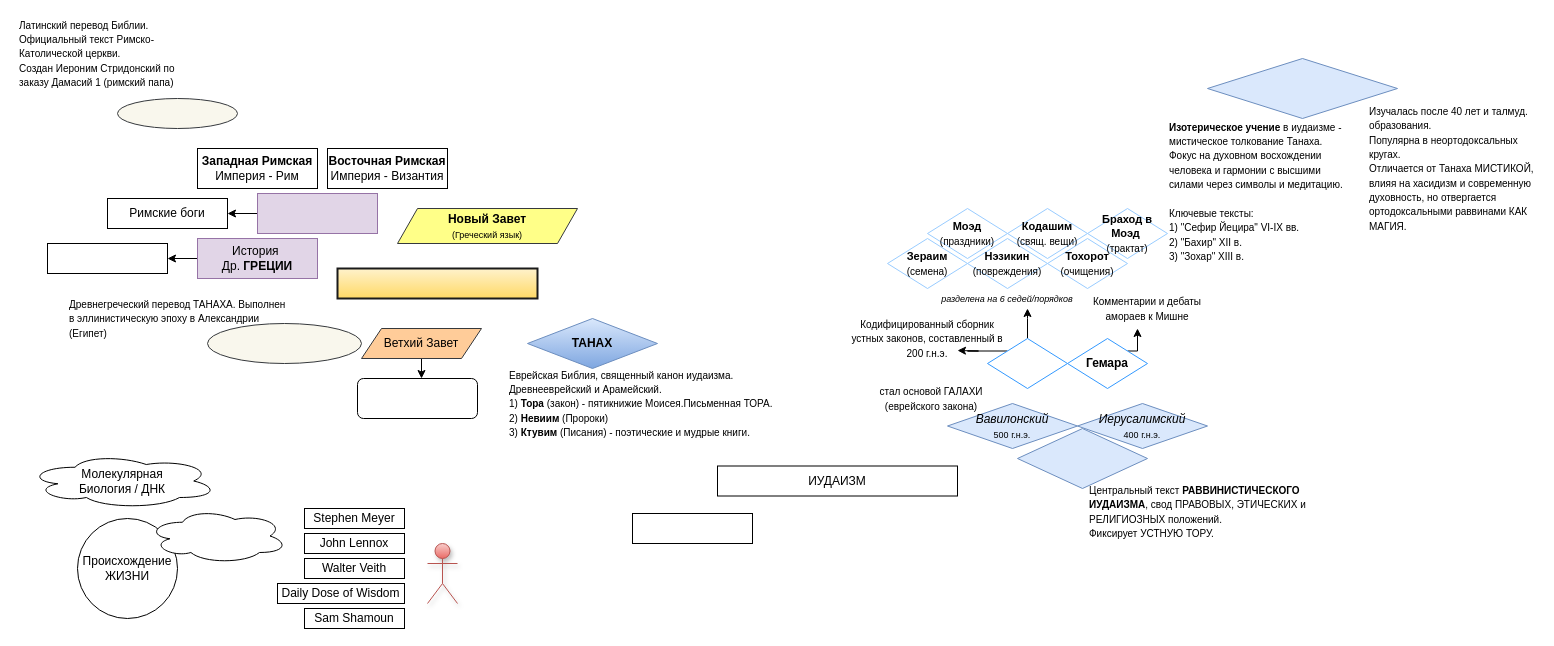
Some shapes in this 1554 by 646 pixel diagram are drawn without their labels. Each missing label, with the centre of its shape:
"10 заповедей Исх.20, Вт 5" goes at [417,398].
"АПОЛОГЕТЫ" goes at [443,574].
"Библия" goes at [437,283].
"Вульгата (IV-V в.н.э.)" goes at [177,113].
"Греческие боги / Мифология" goes at [107,258].
"История Израиля" goes at [692,528].
"История Римской Империи" goes at [317,213].
"Каббала (ХII-XIII вв Прованс и Испания)" goes at [1302,88].
"Мишна" goes at [1027,363].
"Септуагинта (LXX) III-I в до н.э." goes at [284,343].
"ТАЛМУД" goes at [1082,458].
"Эволюция ПостДарвинизм" goes at [217,536].
